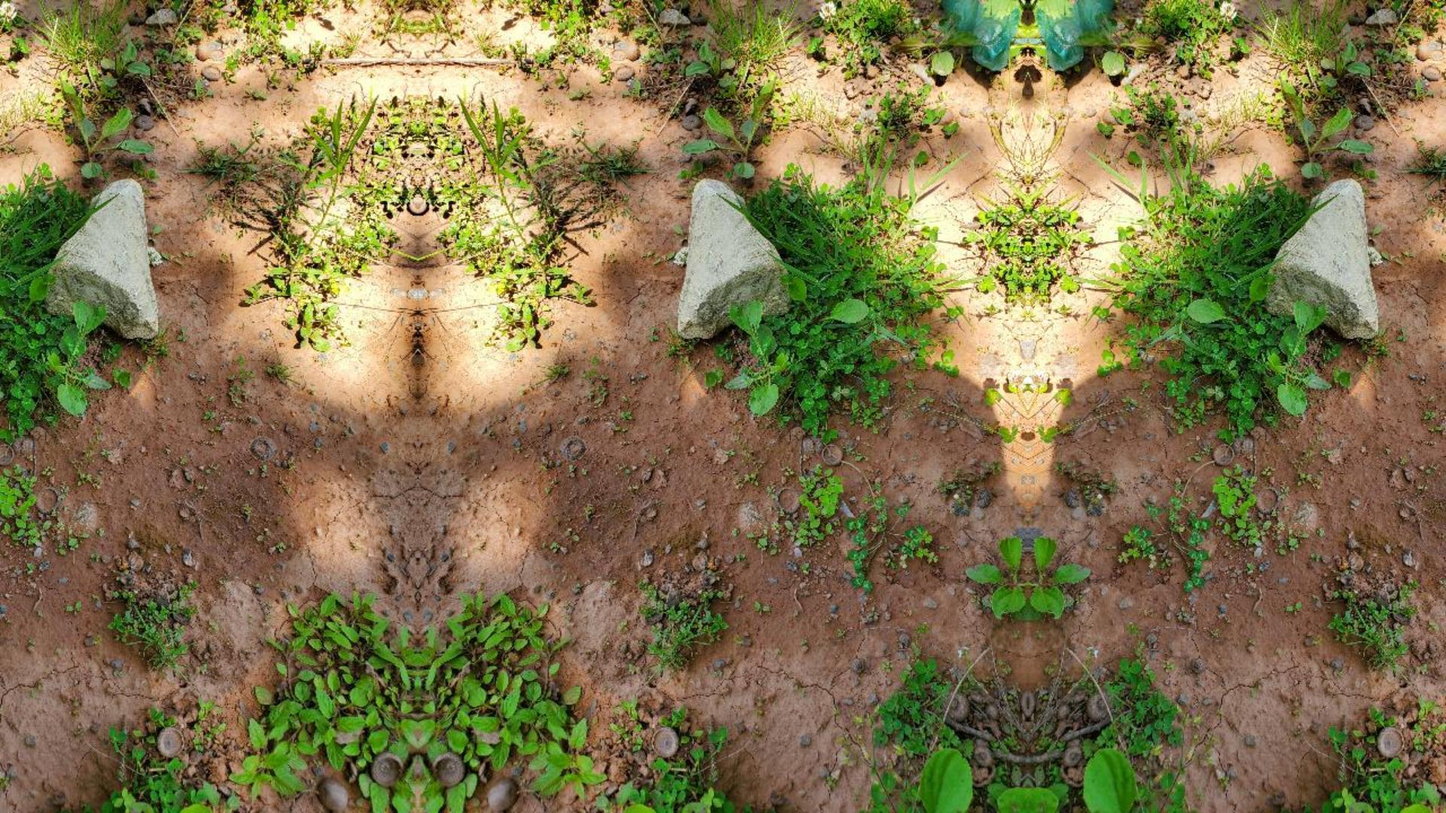rock: (674, 178, 789, 339), (46, 180, 159, 339), (1266, 180, 1379, 339)
